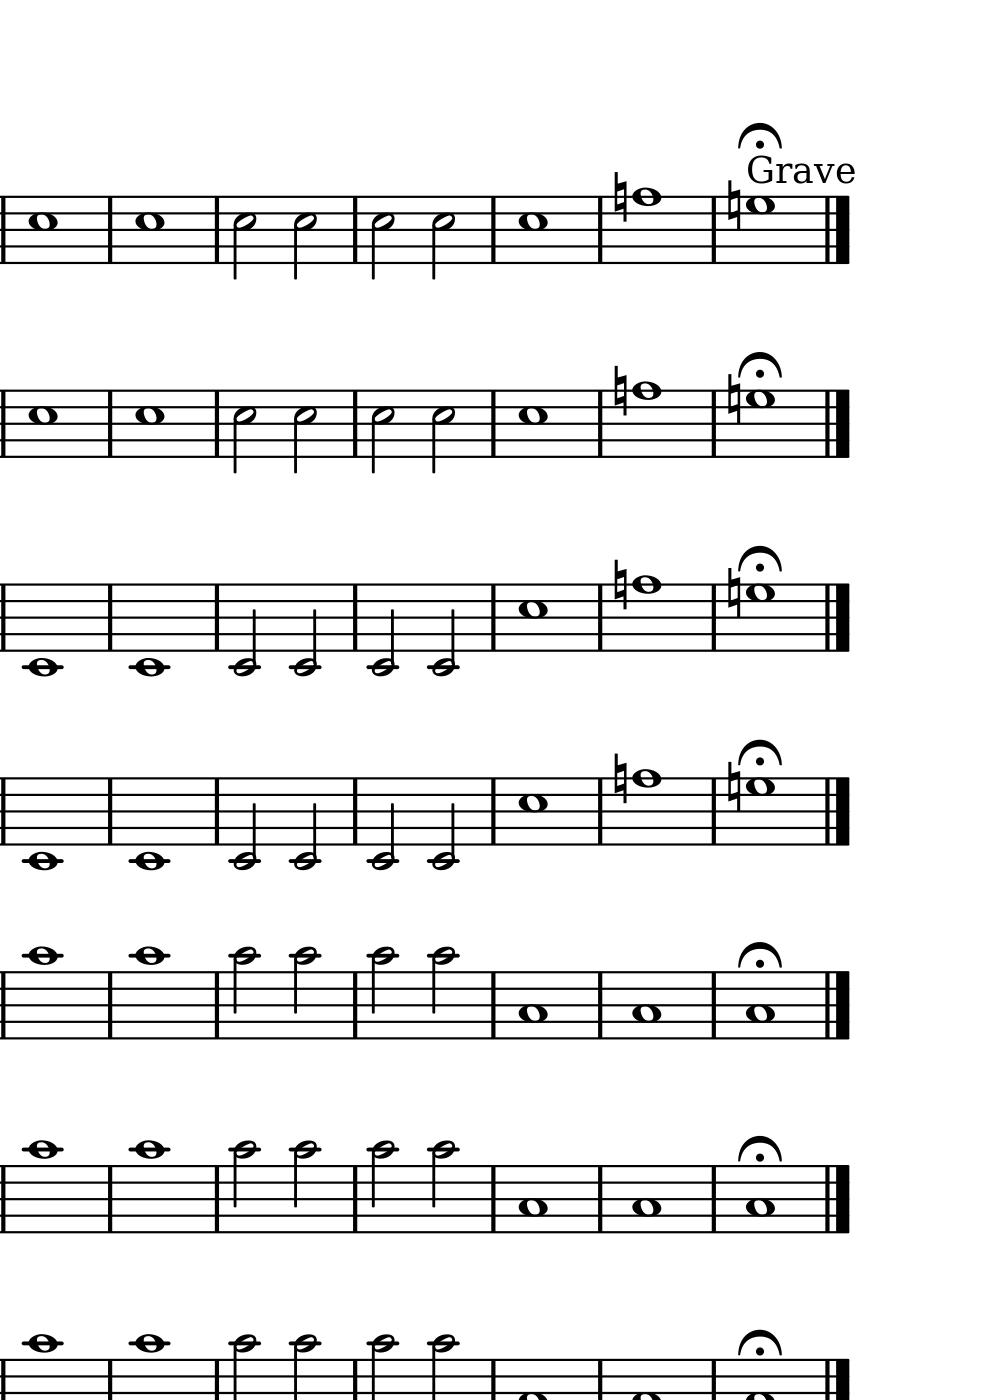1_-2: (127, 776, 170, 875), (127, 583, 170, 681), (22, 776, 63, 874), (22, 583, 62, 680)
1_10: (130, 945, 168, 1043), (22, 945, 60, 1043), (131, 1139, 168, 1237), (22, 1139, 60, 1235)
1_3: (630, 969, 662, 1043), (630, 1163, 662, 1237), (517, 1163, 549, 1237), (744, 970, 776, 1041), (517, 969, 549, 1042), (744, 1164, 775, 1235)
1_5: (133, 388, 166, 461), (26, 195, 59, 266), (26, 388, 58, 460), (134, 195, 166, 266), (517, 388, 549, 461), (516, 582, 547, 654), (516, 776, 547, 848), (517, 195, 549, 267)
1_7: (742, 776, 777, 848), (744, 193, 777, 267), (742, 389, 777, 460), (742, 583, 776, 654)
1_8: (629, 766, 662, 848), (629, 573, 662, 654), (629, 379, 662, 460), (629, 185, 661, 266)
2_-2: (286, 773, 322, 873), (226, 581, 261, 680), (287, 579, 322, 679), (226, 773, 261, 872), (364, 774, 399, 873), (365, 581, 399, 680), (426, 773, 460, 873), (426, 581, 459, 679)
2_10: (229, 946, 261, 1044), (289, 946, 321, 1043), (367, 945, 399, 1044), (427, 945, 459, 1043), (229, 1139, 260, 1237), (290, 1139, 321, 1237), (367, 1139, 399, 1237), (427, 1139, 457, 1237)
2_5: (367, 195, 395, 281), (367, 389, 394, 475), (429, 195, 455, 280), (429, 389, 455, 473), (230, 388, 256, 475), (230, 195, 256, 281), (291, 389, 317, 475), (291, 195, 317, 280)
Fermata_above: (736, 543, 786, 577), (734, 349, 783, 383), (739, 118, 783, 155), (735, 937, 784, 970), (738, 735, 782, 769), (738, 1131, 784, 1163), (735, 1326, 782, 1355)
Final_barline: (822, 583, 852, 652), (823, 387, 852, 458), (823, 776, 852, 846), (823, 195, 852, 265), (823, 970, 851, 1039), (823, 1163, 851, 1232)
Natural: (611, 751, 628, 807), (611, 170, 628, 225), (611, 364, 628, 419), (611, 558, 628, 613), (725, 179, 741, 235), (725, 568, 741, 622), (725, 761, 741, 815), (725, 374, 741, 427)
Single_barline: (703, 390, 723, 458), (590, 1165, 611, 1233), (100, 1165, 120, 1232), (208, 390, 227, 458), (101, 970, 120, 1039), (590, 972, 610, 1040), (207, 1165, 226, 1233), (703, 1165, 722, 1233), (704, 585, 723, 651), (346, 972, 365, 1038), (704, 972, 723, 1038), (346, 1165, 365, 1232), (483, 1166, 502, 1232), (704, 778, 722, 846), (208, 970, 226, 1039), (100, 390, 118, 457), (346, 390, 364, 457), (208, 585, 226, 652), (100, 197, 118, 264), (208, 197, 226, 264), (346, 197, 364, 264), (484, 197, 502, 264), (704, 197, 722, 264), (484, 391, 502, 457), (484, 585, 502, 651), (484, 779, 502, 845), (484, 972, 502, 1038), (208, 778, 225, 846), (590, 390, 607, 457), (101, 584, 118, 651), (346, 584, 363, 651), (101, 778, 118, 845), (346, 778, 363, 845), (591, 778, 607, 845), (591, 197, 607, 264), (591, 585, 607, 651), (1, 1164, 14, 1232), (1, 390, 13, 457), (1, 970, 13, 1038), (1, 197, 13, 264), (1, 777, 12, 844), (1, 584, 12, 650)
